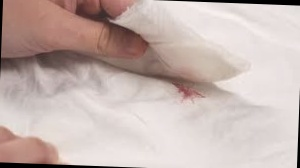lipstick: (166, 75, 209, 106)
